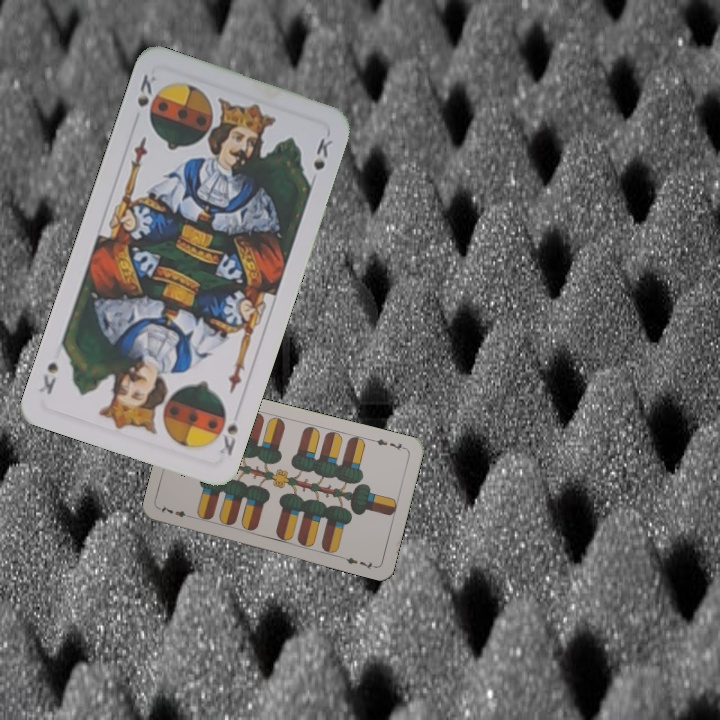E7: (156, 501, 196, 520), (368, 435, 408, 453)
SK: (133, 70, 160, 110), (215, 419, 241, 459)
